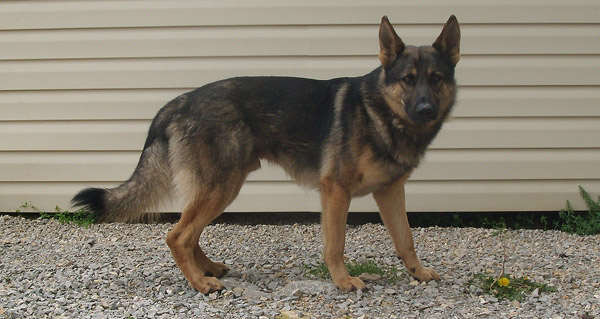tail: (70, 106, 171, 235)
